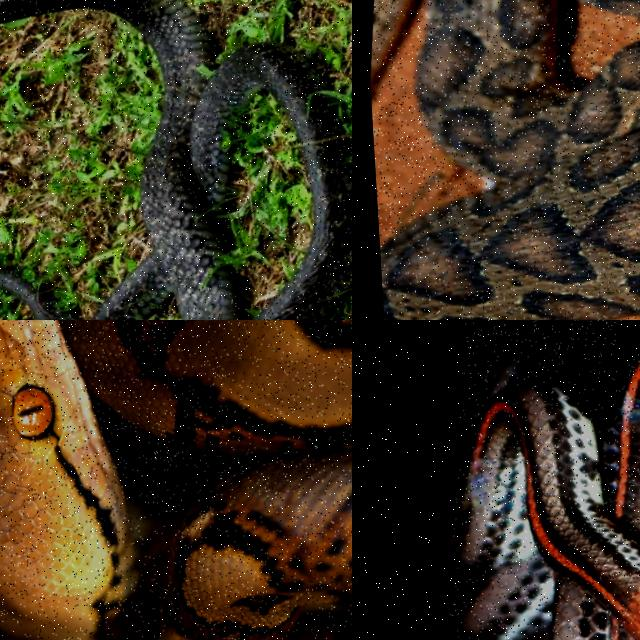Calliophis intestinalis: (455, 368, 639, 639)
Daboia siamensis: (380, 0, 639, 319)
Malayopython reticulatus: (0, 320, 351, 639)
Naja kaouthia: (0, 0, 351, 319)
snake: (0, 0, 351, 319), (0, 320, 351, 639), (380, 0, 639, 319), (455, 368, 639, 639)
